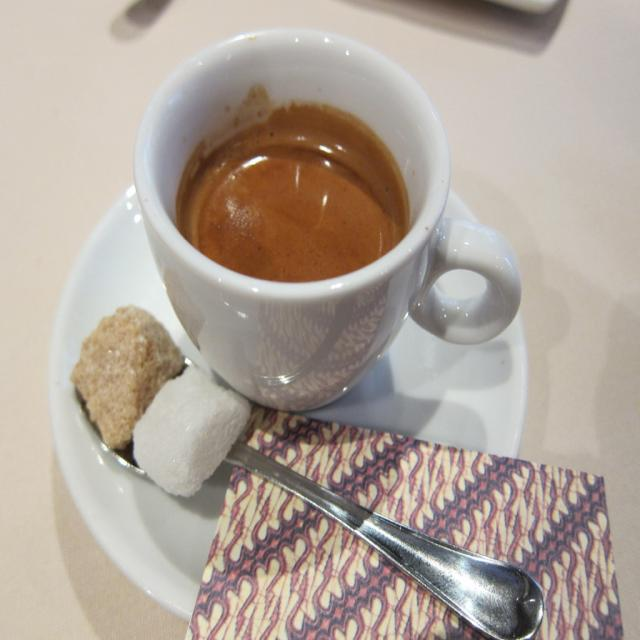Coffee: (121, 24, 474, 414)
Tea: (174, 85, 408, 280)
